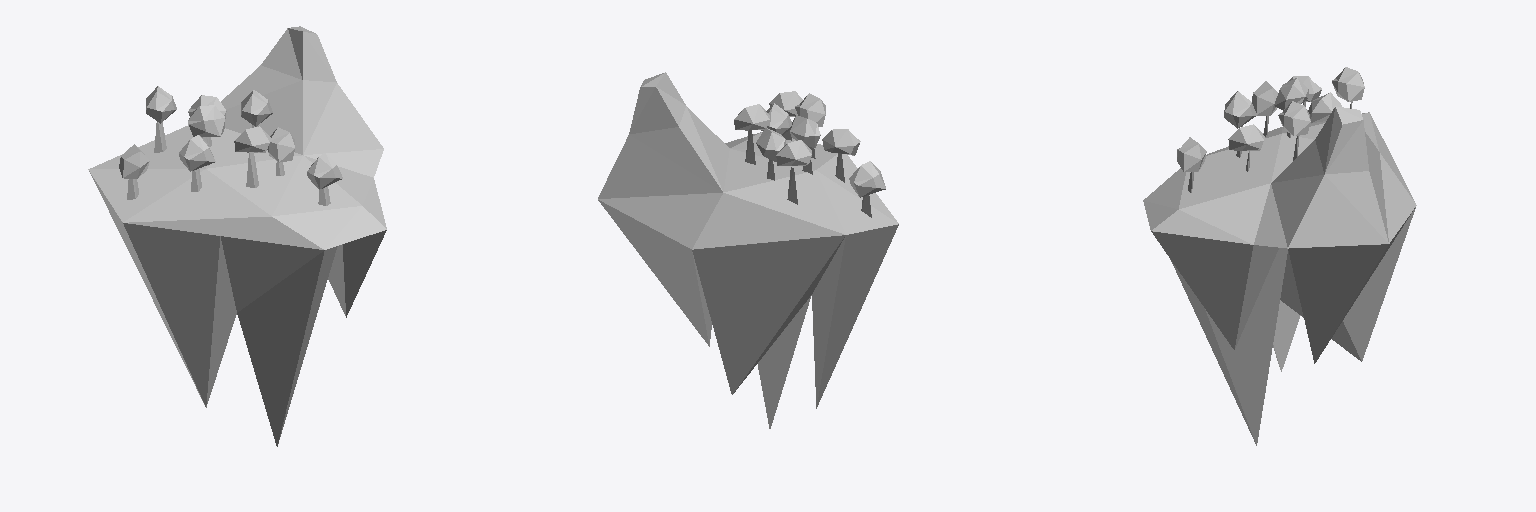
The model's file is Ilo1.obj.
The picture shows the model from 3 angles: view 1: azimuth 30°, elevation 25°; view 2: azimuth 150°, elevation 25°; view 3: azimuth 270°, elevation 25°; orthographic projection.
Bounding box in the file's own units: 0.6355 × 0.8544 × 0.5694.